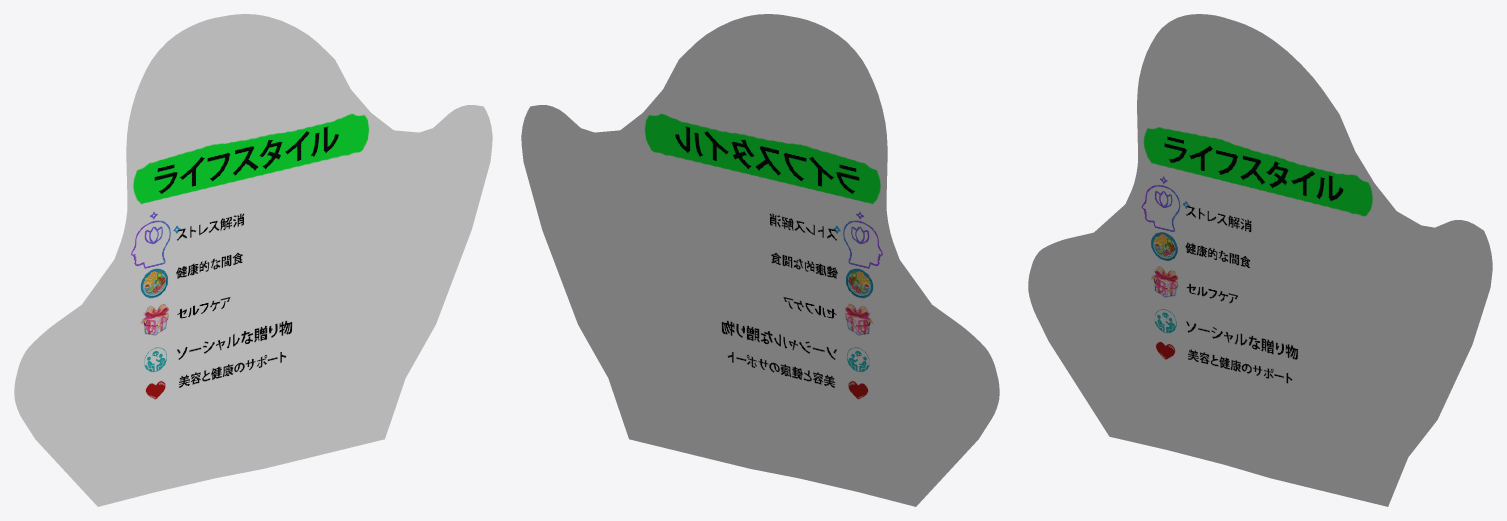
File: Sign.glb
3 views of the same model, side by side, from view 1: azimuth 30°, elevation 25°; view 2: azimuth 150°, elevation 25°; view 3: azimuth 330°, elevation 25° (orthographic). The views are drawn at different scales.
Visible parts, largest first — view 1: Cube.002; view 2: Cube.002; view 3: Cube.002.
Boxes of the visible parts, x1=… form: Cube.002: x1=14, y1=14, x2=492, y2=506; Cube.002: x1=521, y1=14, x2=999, y2=506; Cube.002: x1=1028, y1=14, x2=1492, y2=506.
Size of the model in its own units: 5.89 by 5.45 by 1.13e-06.
Materials: 1 (1 with a texture image).
